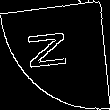N_E: (31, 32, 79, 78)
